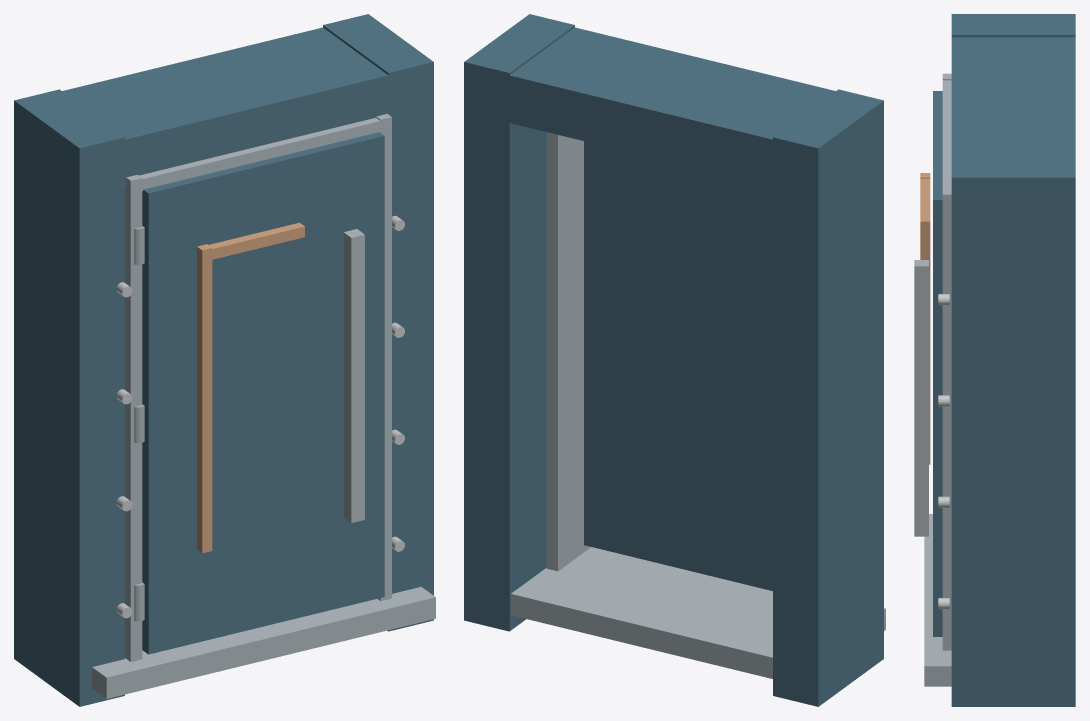
File: portal-plumbing.glb
3 renders of one model, left to right at view 1: azimuth 30°, elevation 25°; view 2: azimuth 150°, elevation 25°; view 3: azimuth 270°, elevation 25°, orthographic. The views are drawn at different scales.
Visible parts, largest first — view 1: plumb_door, plumb_frame_left, plumb_frame_top, plumb_frame_right, plumb_threshold, plumb_steel_jamb_-1.1, plumb_pullbar, plumb_copper_vertical, plumb_steel_jamb_1.1, plumb_steel_head, plumb_copper_top; view 2: plumb_door, plumb_frame_left, plumb_frame_right, plumb_frame_top, plumb_threshold, plumb_steel_jamb_1.1; view 3: plumb_frame_right, plumb_frame_top, plumb_door, plumb_steel_jamb_1.1, plumb_pullbar, plumb_frame_left, plumb_threshold, plumb_steel_head, plumb_copper_vertical, plumb_copper_top.
Part boxes in pixels (x1,y1,x2,y2): plumb_door: (142, 132, 384, 654); plumb_frame_left: (14, 89, 124, 706); plumb_frame_top: (14, 27, 433, 196); plumb_frame_right: (323, 14, 433, 631); plumb_threshold: (92, 586, 435, 698); plumb_steel_jamb_-1.1: (125, 174, 142, 661); plumb_pullbar: (343, 229, 364, 522); plumb_copper_vertical: (197, 244, 212, 553); plumb_steel_jamb_1.1: (376, 113, 391, 600); plumb_steel_head: (125, 118, 391, 193); plumb_copper_top: (205, 222, 304, 259); plumb_door: (584, 141, 772, 590); plumb_frame_left: (773, 89, 883, 706); plumb_frame_right: (464, 14, 574, 631); plumb_frame_top: (464, 27, 883, 197); plumb_threshold: (511, 547, 885, 678); plumb_steel_jamb_1.1: (546, 132, 590, 571); plumb_frame_right: (951, 156, 1075, 706); plumb_frame_top: (951, 37, 1075, 224); plumb_door: (933, 91, 942, 636); plumb_steel_jamb_1.1: (942, 189, 951, 650); plumb_pullbar: (914, 260, 928, 536); plumb_frame_left: (951, 14, 1075, 37); plumb_threshold: (924, 514, 951, 686); plumb_steel_head: (942, 80, 951, 206); plumb_copper_vertical: (920, 173, 930, 464); plumb_copper_top: (920, 178, 930, 231).
Bounding box in the file's own units: 3.12 × 4.7 × 1.3.
